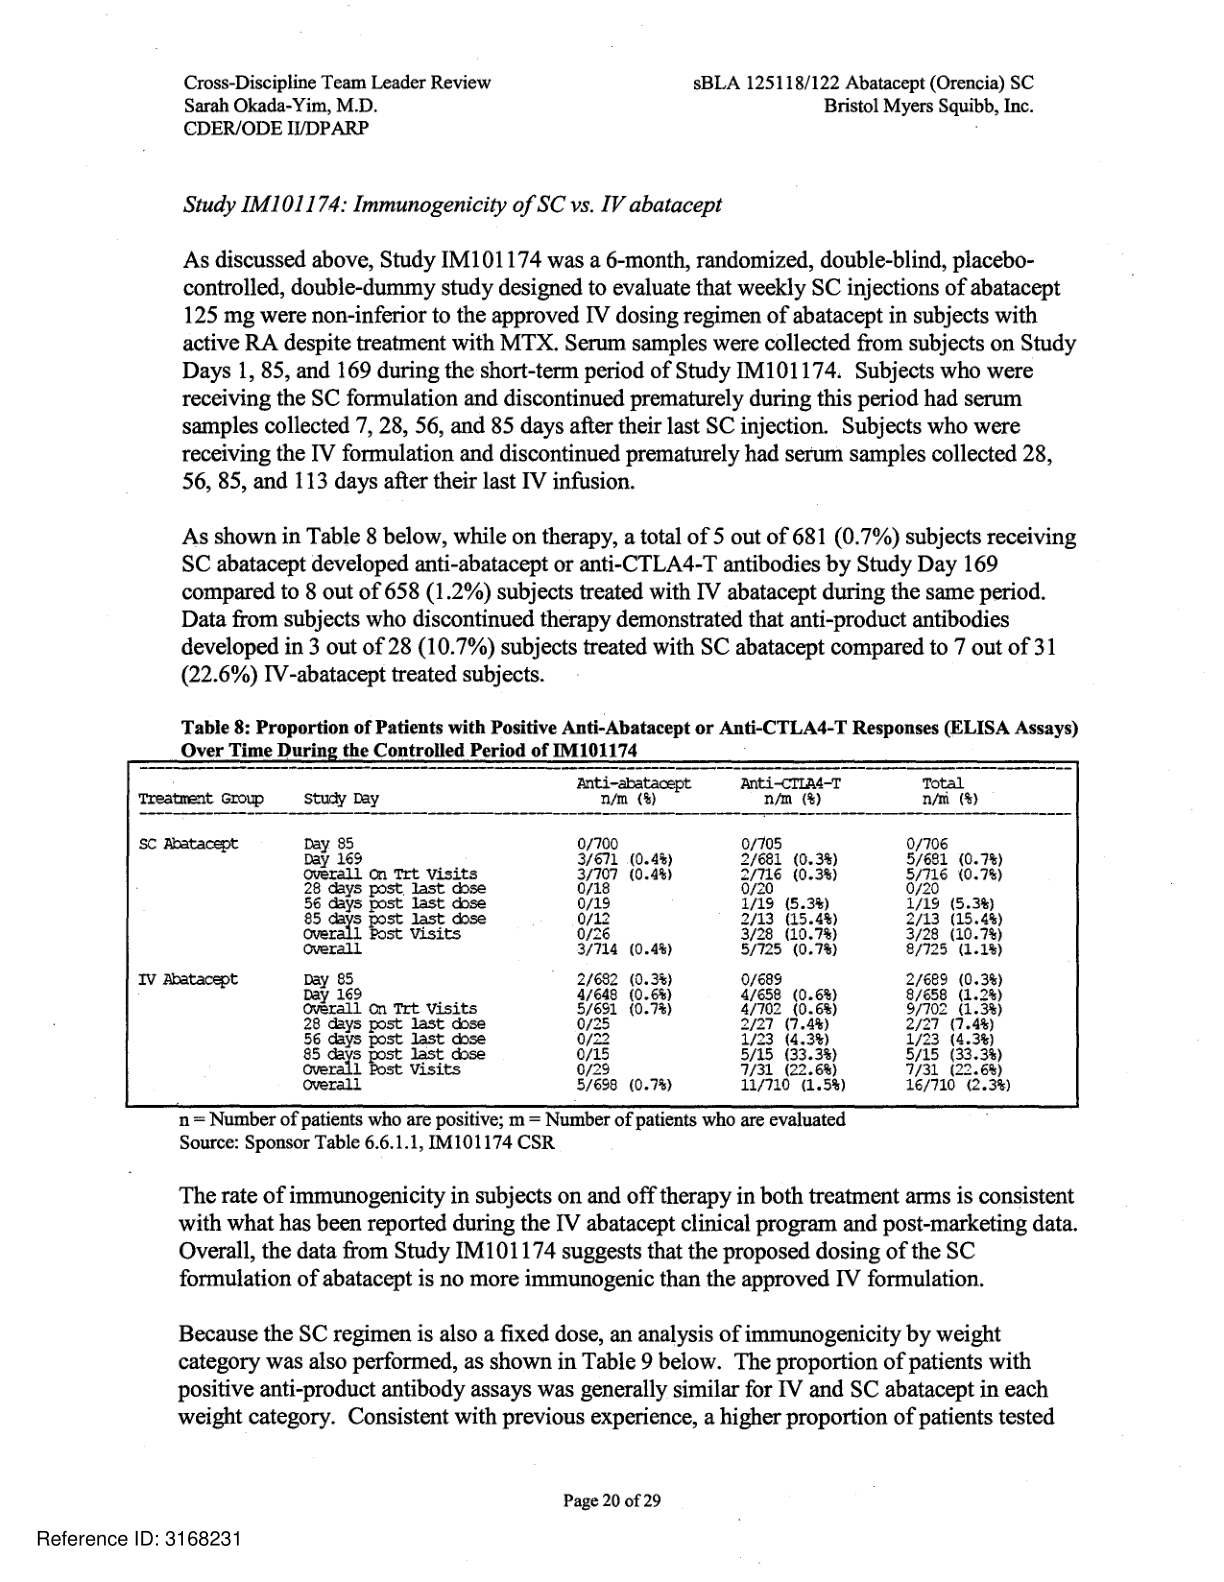partial_lined_merged_cells: (123, 758, 1083, 1109)
